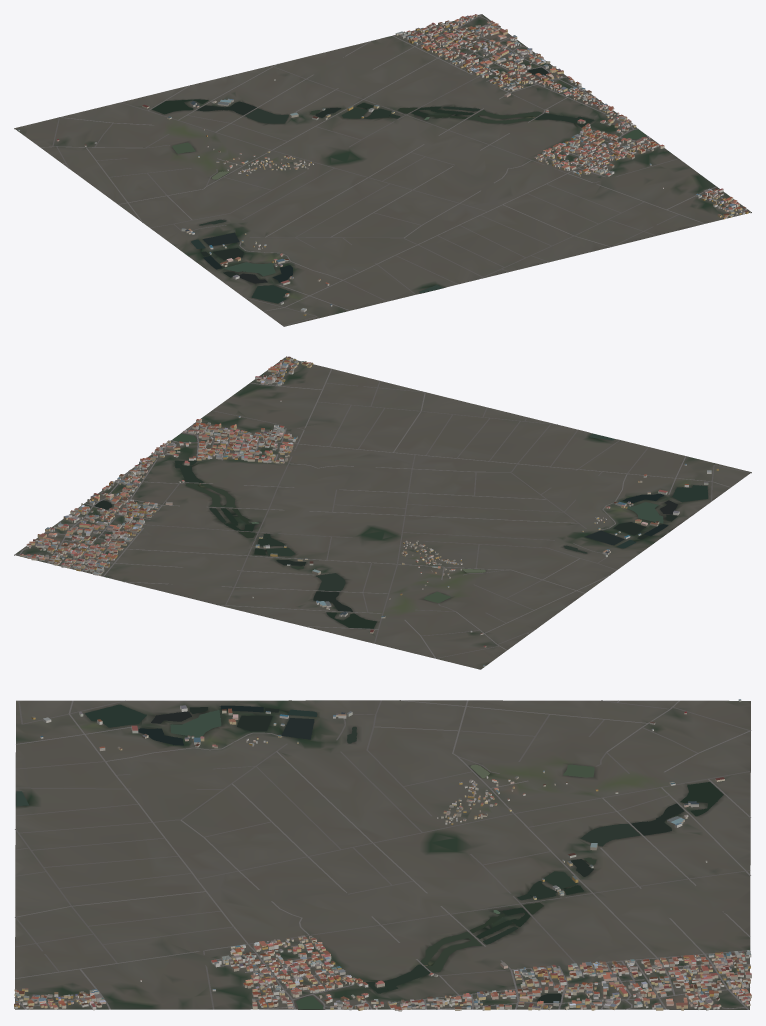
3 renders of one model, top to bottom at view 1: azimuth 30°, elevation 25°; view 2: azimuth 150°, elevation 25°; view 3: azimuth 270°, elevation 25°, orthographic. The views are drawn at different scales.
Visible parts, largest first — view 1: ground, buildings, roads, water; view 2: ground, buildings, roads, water; view 3: ground, buildings, roads, water.
Boxes of the visible parts, x1,y1,x2,y2 form: ground: [14, 14, 751, 326]; buildings: [17, 14, 750, 315]; roads: [40, 14, 747, 326]; water: [152, 67, 646, 303]; ground: [14, 357, 751, 669]; buildings: [20, 356, 718, 666]; roads: [14, 360, 750, 658]; water: [94, 433, 708, 628]; ground: [15, 700, 750, 1009]; buildings: [14, 699, 751, 1011]; roads: [14, 700, 751, 1009]; water: [16, 704, 723, 1009].
Size of the model in its own units: 1409 by 16.74 by 1407.
